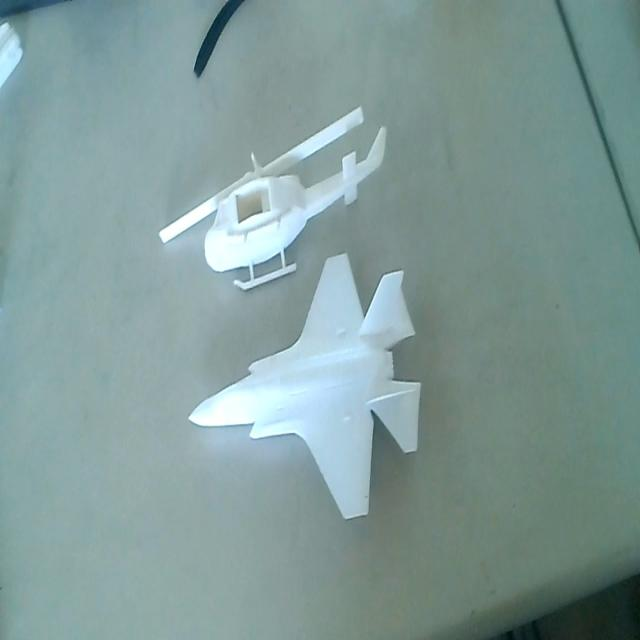Helicopter: (164, 98, 392, 292)
Jet: (184, 250, 426, 522)
